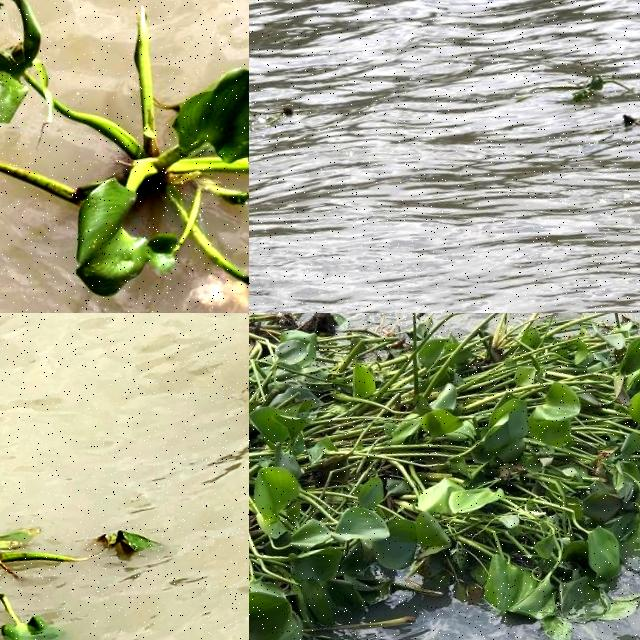water-hyacinth: (250, 314, 640, 640), (1, 314, 250, 640), (1, 1, 250, 314), (543, 56, 640, 113), (250, 87, 309, 145)
